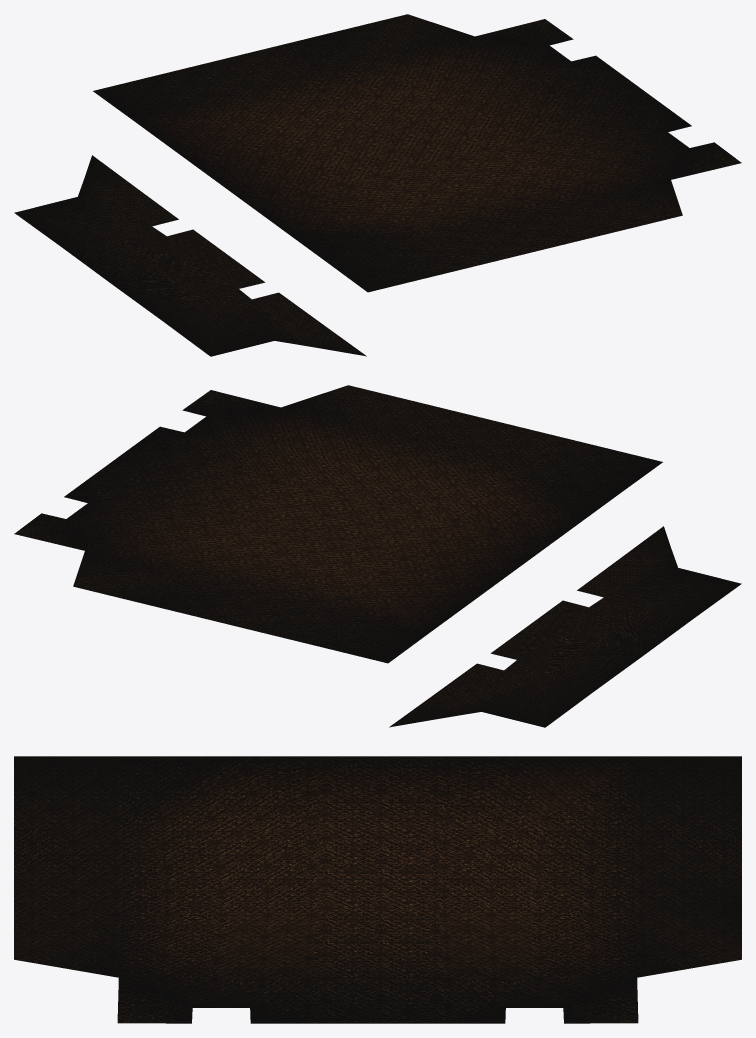
File: test-ceiling-opt.glb
3 renders of one model, top to bottom at view 1: azimuth 30°, elevation 25°; view 2: azimuth 150°, elevation 25°; view 3: azimuth 270°, elevation 25°, orthographic. The views are drawn at different scales.
Parts seen in each view (by area): view 1: ceiling; view 2: ceiling; view 3: ceiling.
Part boxes in pixels (bbox=[...]): ceiling: bbox=[14, 14, 741, 356]; ceiling: bbox=[14, 385, 741, 727]; ceiling: bbox=[14, 756, 741, 1023].
Bounding box in the file's own units: 329 × 37.99 × 295.
Materials: 1 (1 with a texture image).
